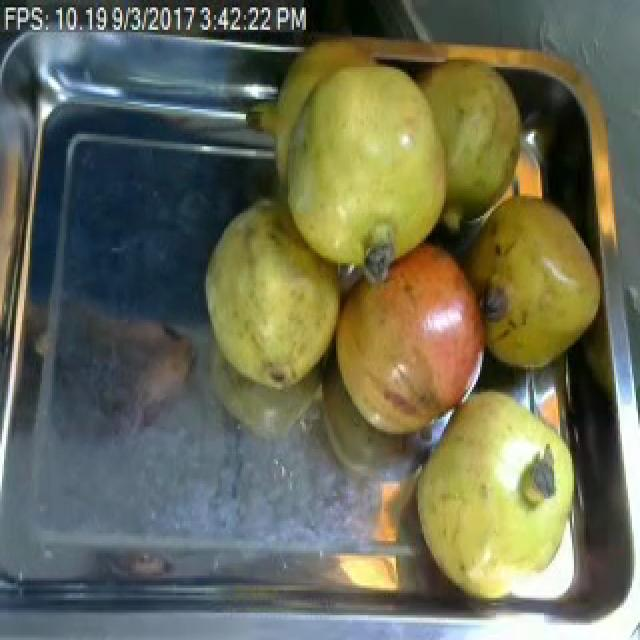fruit: (406, 377, 592, 615), (320, 226, 504, 454), (192, 183, 348, 404), (448, 173, 610, 384)
